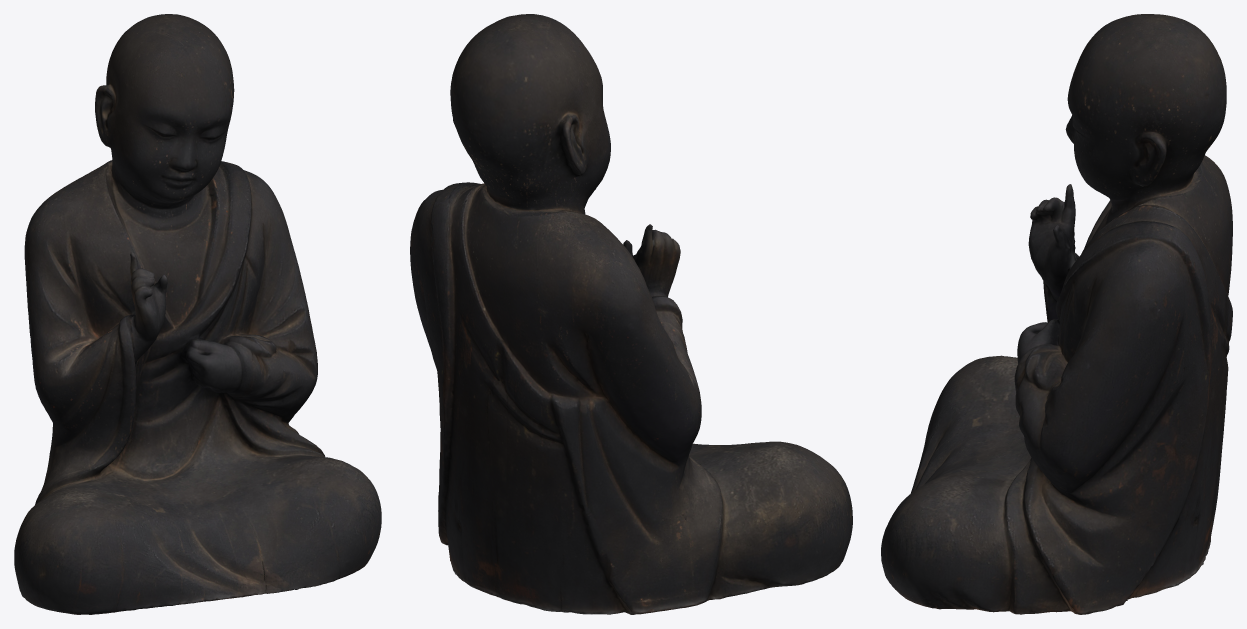
File: preview.glb
3 views of the same model, side by side, from view 1: azimuth 30°, elevation 25°; view 2: azimuth 150°, elevation 25°; view 3: azimuth 270°, elevation 25° (orthographic). The views are drawn at different scales.
Parts seen in each view (by area): view 1: Object_2; view 2: Object_2; view 3: Object_2.
Part boxes in pixels (x1=…): Object_2: x1=14, y1=14, x2=381, y2=614; Object_2: x1=410, y1=14, x2=852, y2=614; Object_2: x1=881, y1=14, x2=1232, y2=614.
Size of the model in its own units: 0.2414 by 0.3459 by 0.2039.
Materials: 1 (1 with a texture image).
